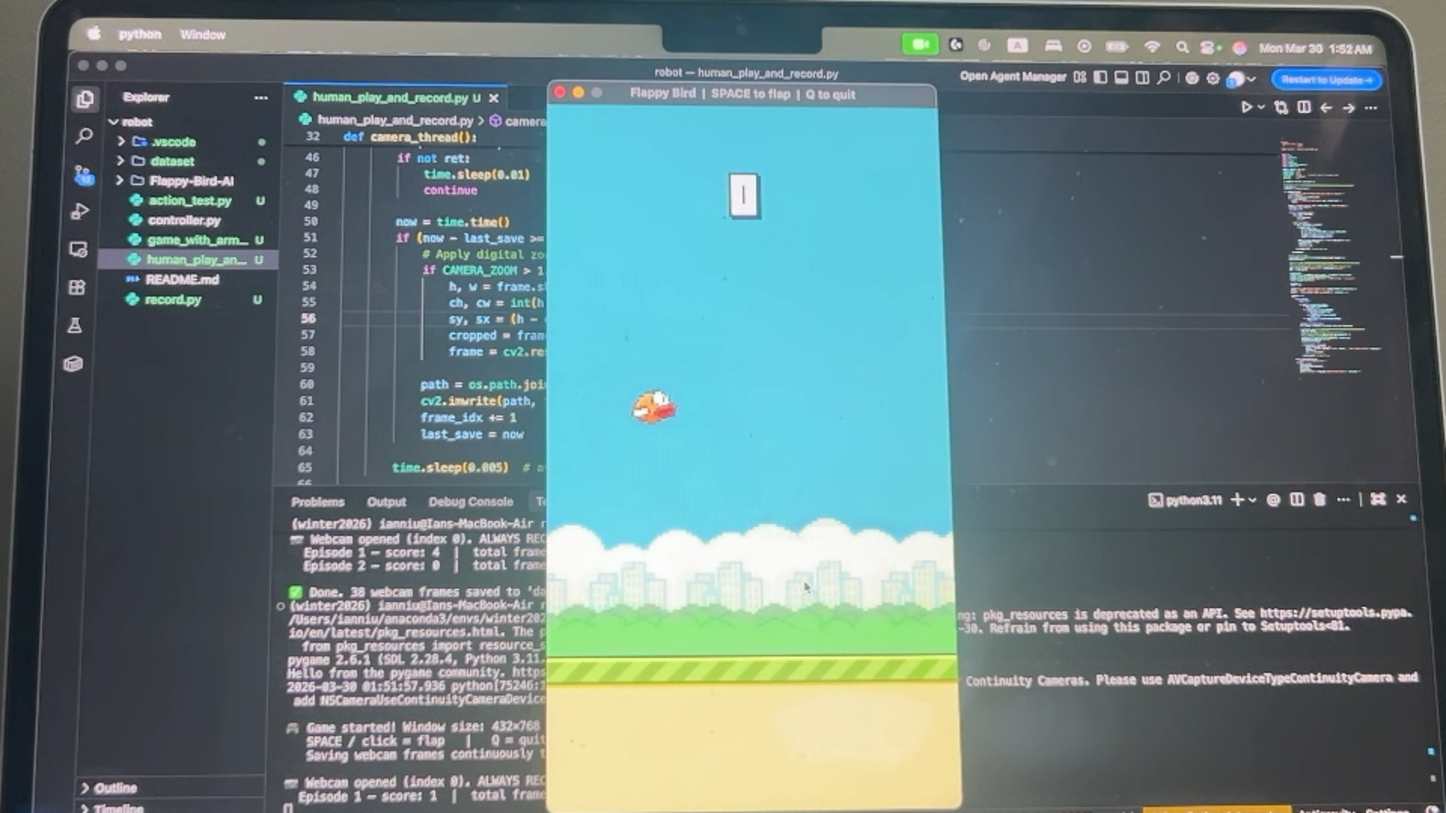bird: (629, 386, 680, 429)
